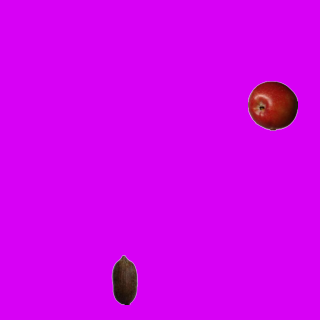Apple Braeburn: (247, 80, 297, 130)
Nut Pecan: (99, 254, 149, 304)
